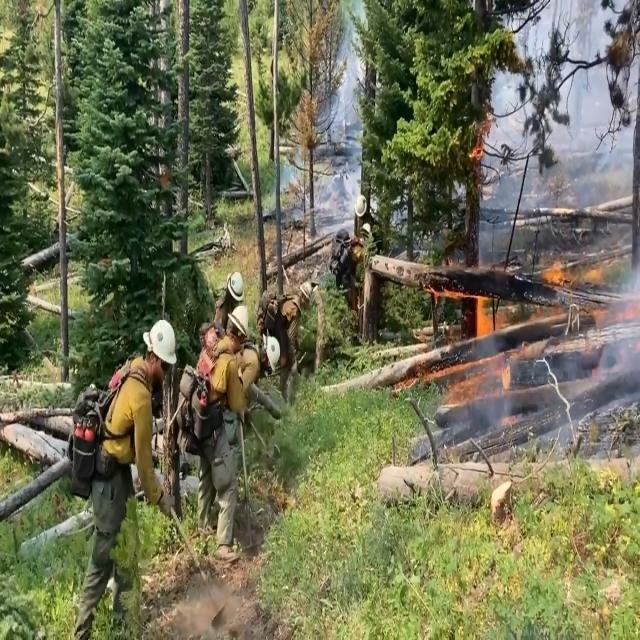Fire: (426, 236, 608, 394)
